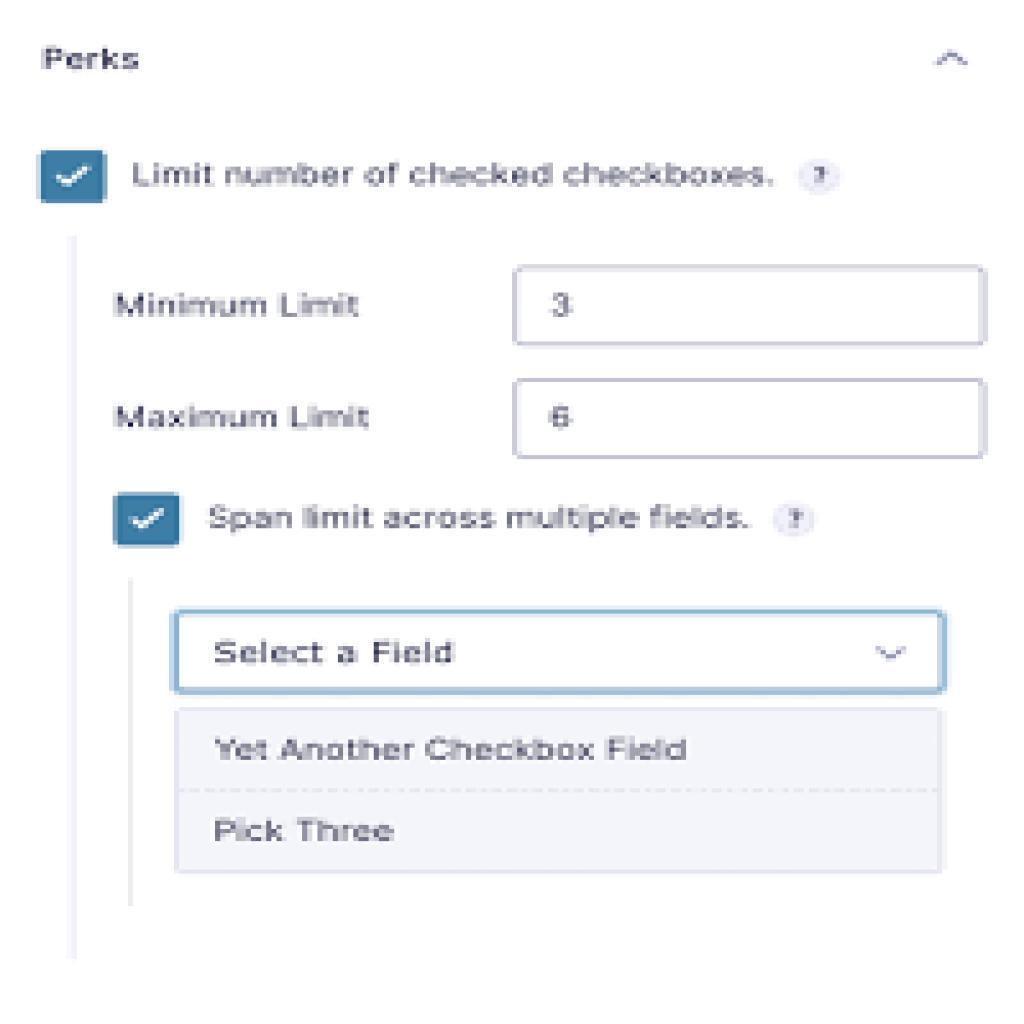checkbox: (114, 491, 183, 550), (39, 151, 108, 204)
dropdown: (175, 611, 944, 697)
input: (174, 707, 946, 791), (173, 792, 942, 873), (512, 266, 988, 349), (513, 378, 984, 459)
